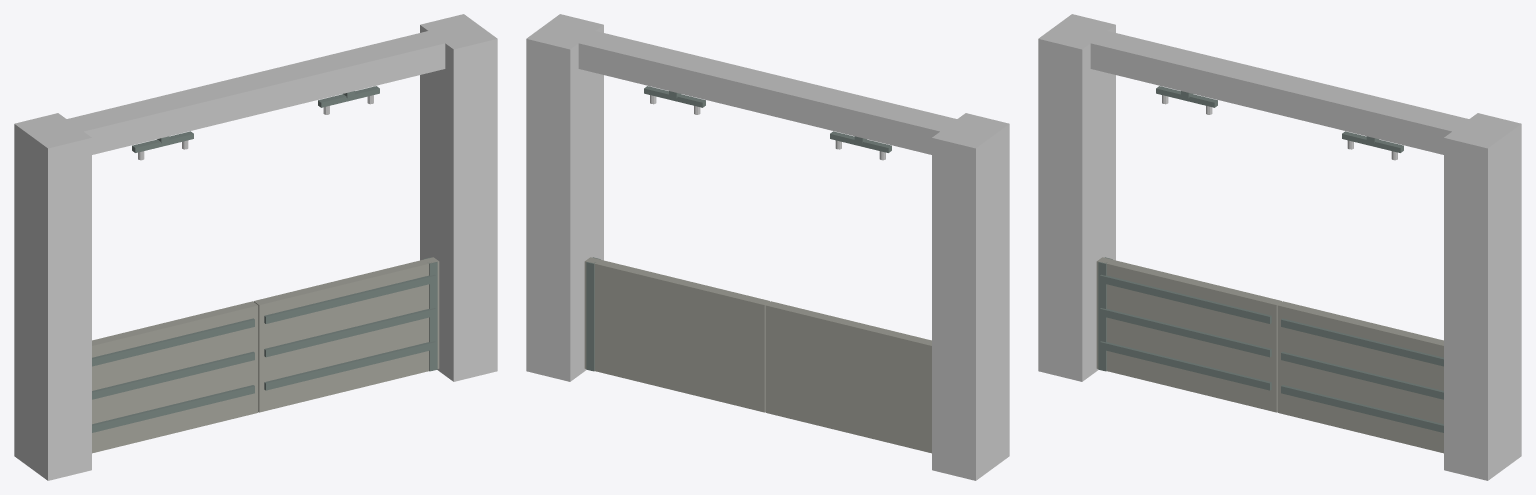
File: SM_PuertaViaDoble_v4_Blindada_e0_Sano_LOD0.fbx
3 views of the same model, side by side, from view 1: azimuth 30°, elevation 25°; view 2: azimuth 150°, elevation 25°; view 3: azimuth 330°, elevation 25° (orthographic).
Visible parts, largest first — view 1: SM_puerta_via_doble_v16_LOD0, Hoja_E, Hoja_O; view 2: SM_puerta_via_doble_v16_LOD0, Hoja_E, Hoja_O; view 3: SM_puerta_via_doble_v16_LOD0, Hoja_O, Hoja_E.
Boxes of the visible parts, x1,y1,x2,y2 form: SM_puerta_via_doble_v16_LOD0: (14,14,497,480); Hoja_E: (253,257,439,412); Hoja_O: (92,301,258,453); SM_puerta_via_doble_v16_LOD0: (526,14,1009,480); Hoja_E: (584,257,770,412); Hoja_O: (765,301,931,453); SM_puerta_via_doble_v16_LOD0: (1038,14,1521,480); Hoja_O: (1096,257,1282,412); Hoja_E: (1277,301,1443,453).
Size of the model in its own units: 9.2 by 6.5 by 1.2.
